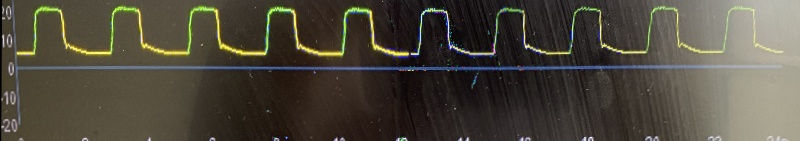normal_pressure: (10, 0, 799, 73)
